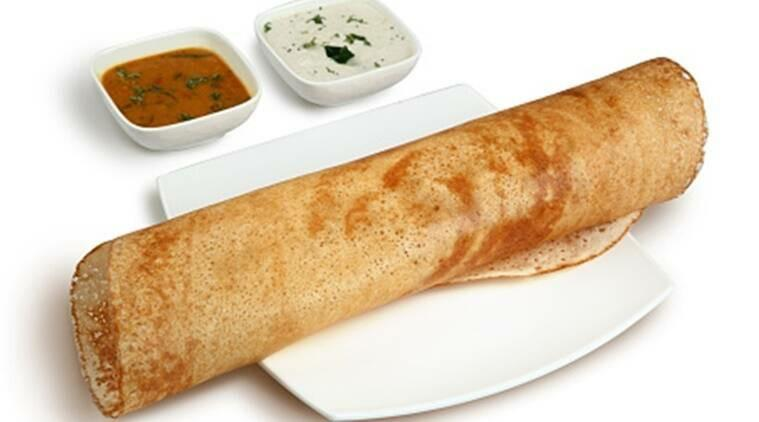CoconutChutney: (264, 0, 412, 82)
Dosa: (69, 58, 709, 419)
